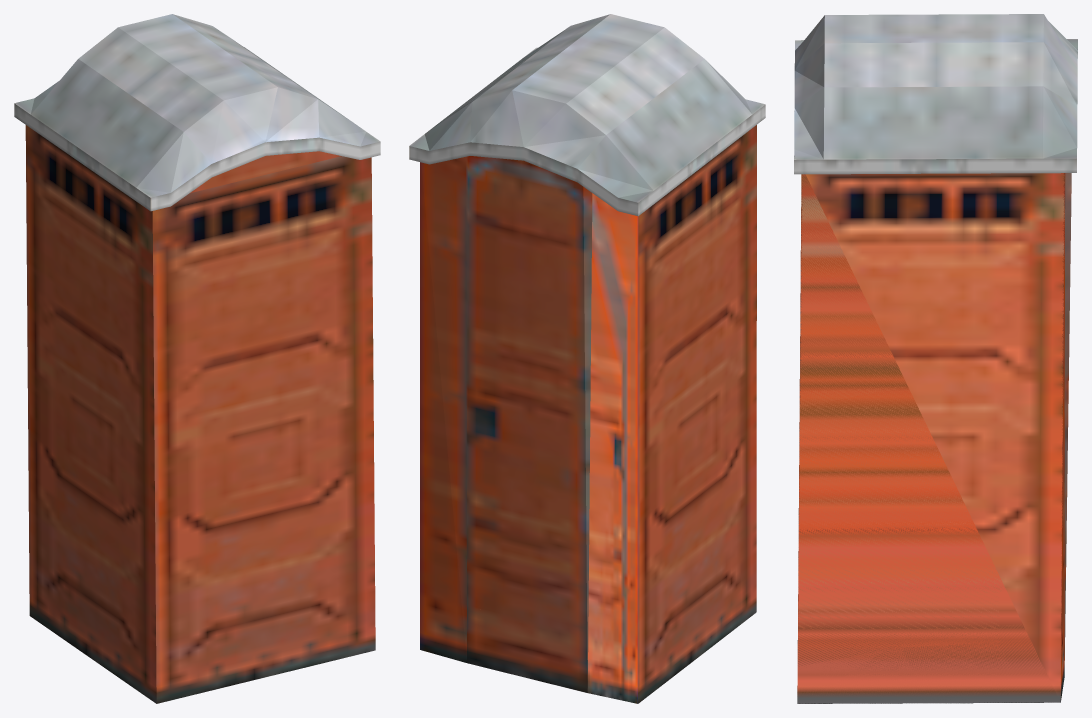
File: LookumC.FBX
3 renders of one model, left to right at view 1: azimuth 30°, elevation 25°; view 2: azimuth 150°, elevation 25°; view 3: azimuth 270°, elevation 25°, orthographic. The views are drawn at different scales.
Parts seen in each view (by area): view 1: LookumC; view 2: LookumC; view 3: LookumC.
Boxes of the visible parts, <box> form: LookumC: <box>14,14,380,703</box>; LookumC: <box>409,14,765,703</box>; LookumC: <box>794,14,1077,703</box>.
Bounding box in the file's own units: 79.99 × 188 × 78.31.
Materials: 1 (1 with a texture image).
